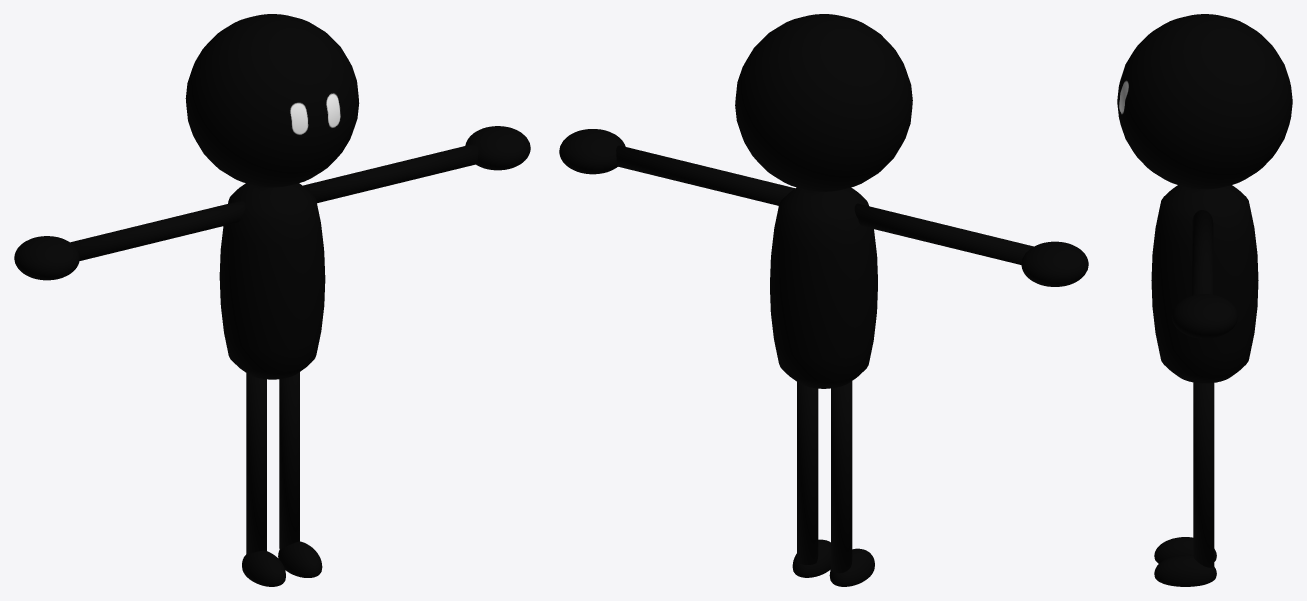
The model's file is player.fbx.
The picture shows the model from 3 angles, left to right: view 1: azimuth 30°, elevation 25°; view 2: azimuth 150°, elevation 25°; view 3: azimuth 270°, elevation 25°; orthographic projection. The views are drawn at different scales.
Visible parts, largest first — view 1: 球, 球.001, 球.004, 球.002, 球.005, 球.003; view 2: 球, 球.001, 球.002, 球.004, 球.005, 球.003; view 3: 球, 球.001, 球.002, 球.005, 球.003, 球.004.
Part boxes in pixels (x1,y1,x2,y2): 球: (185,14,359,187); 球.001: (219,183,325,379); 球.004: (70,144,478,260); 球.002: (246,372,299,554); 球.005: (14,126,530,280); 球.003: (242,541,322,586); 球: (735,14,912,191); 球.001: (770,187,877,388); 球.002: (797,381,852,573); 球.004: (616,145,1033,264); 球.005: (559,129,1088,286); 球.003: (792,539,874,586); 球: (1117,14,1292,189); 球.001: (1151,185,1258,383); 球.002: (1193,382,1214,567); 球.005: (1171,294,1238,338); 球.003: (1154,537,1216,586); 球.004: (1192,210,1213,295).
Bounding box in the file's own units: 0.7925 × 0.8158 × 0.2349.
Materials: 1 (1 with a texture image).
